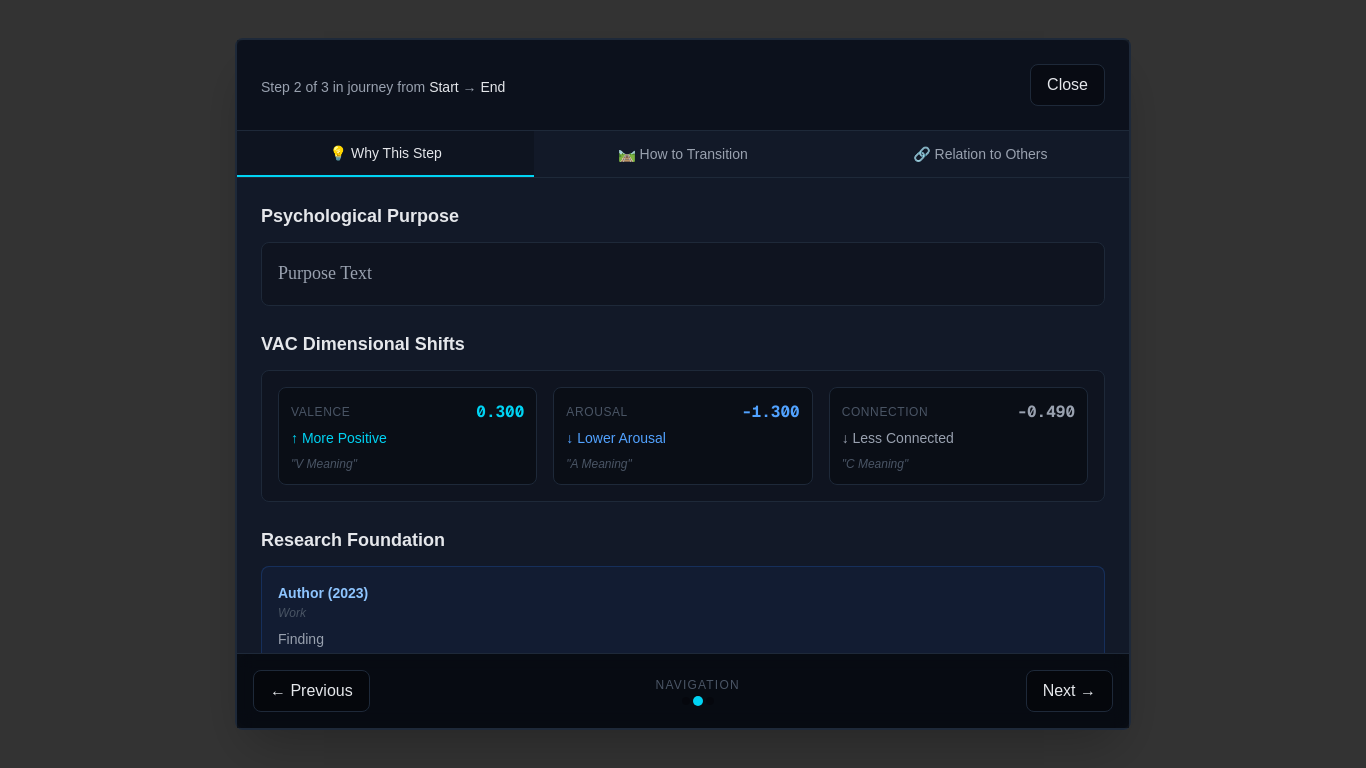
WaypointDetailModal › Strategy Fetching & Rich Metadata › renders rich strategy metadata and steps
Click the tab "🛤️ How to Transition" at (683, 154), box top-left (534, 131), bottom-right (832, 177)
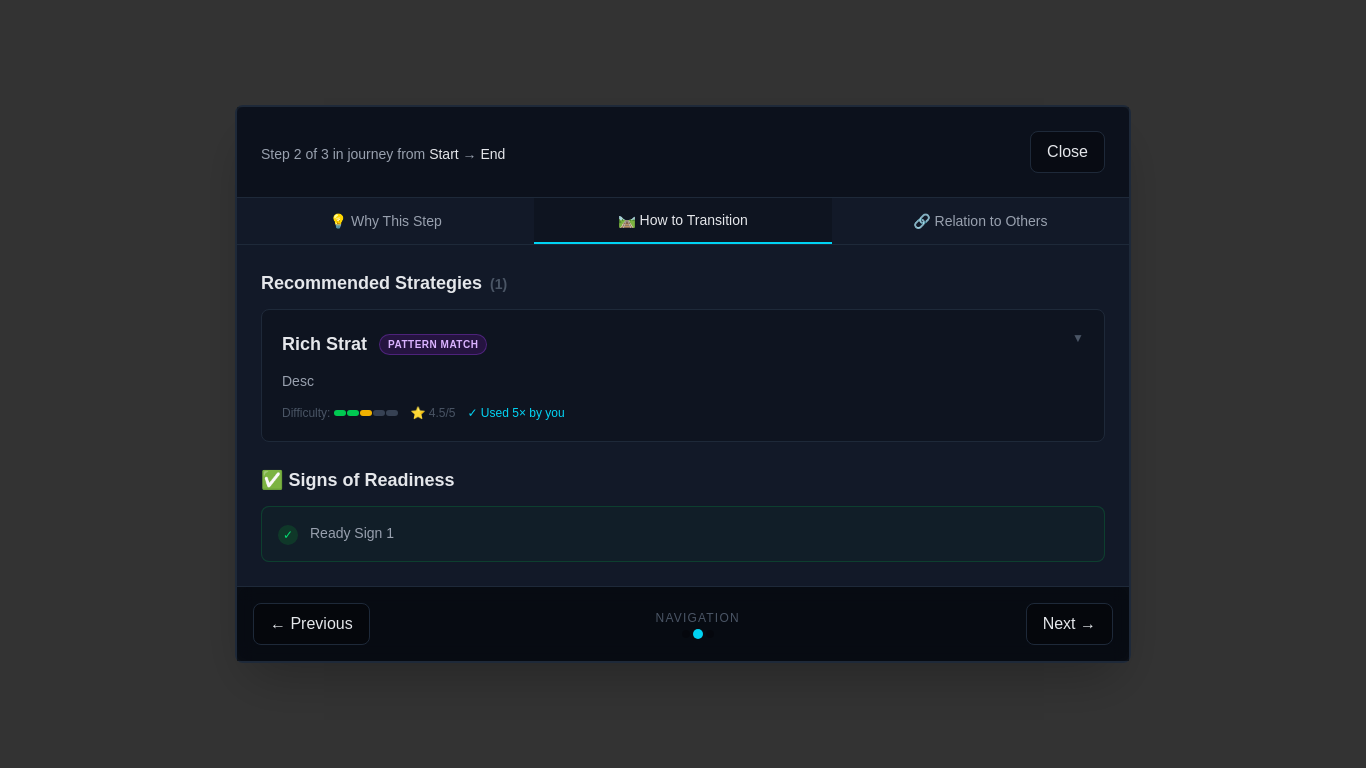
Check: the text "Pattern Match" is shown, box top-left (379, 334), bottom-right (487, 355)
Check: the text "Difficulty:" is shown, box top-left (282, 405), bottom-right (330, 421)
Check: the text "⭐ 4.5/5" is shown, box top-left (410, 405), bottom-right (456, 421)
Click the heading "Rich Strat" at (324, 344), box top-left (282, 330), bottom-right (367, 358)
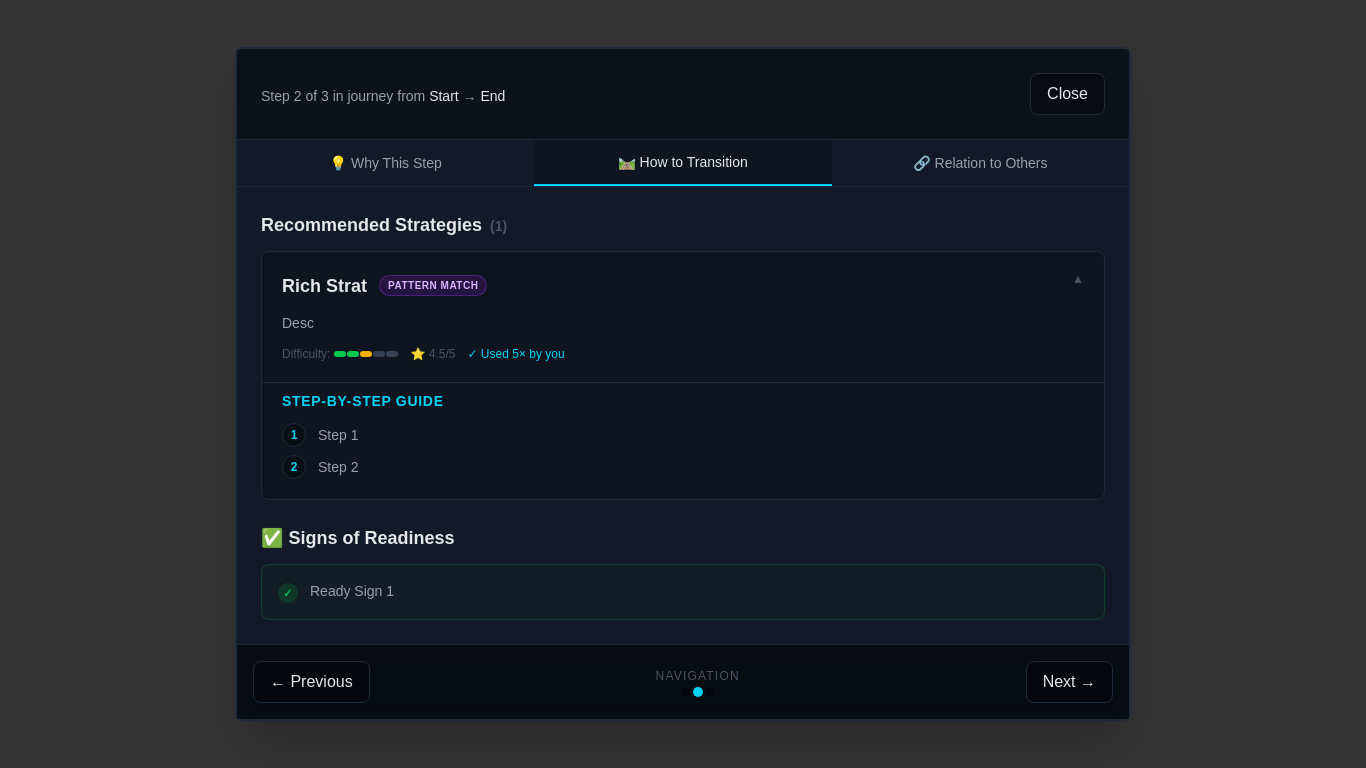
Check: the text "Step 1" is shown, box top-left (318, 423), bottom-right (358, 445)
Check: the text "Step 2" is shown, box top-left (318, 455), bottom-right (358, 477)
